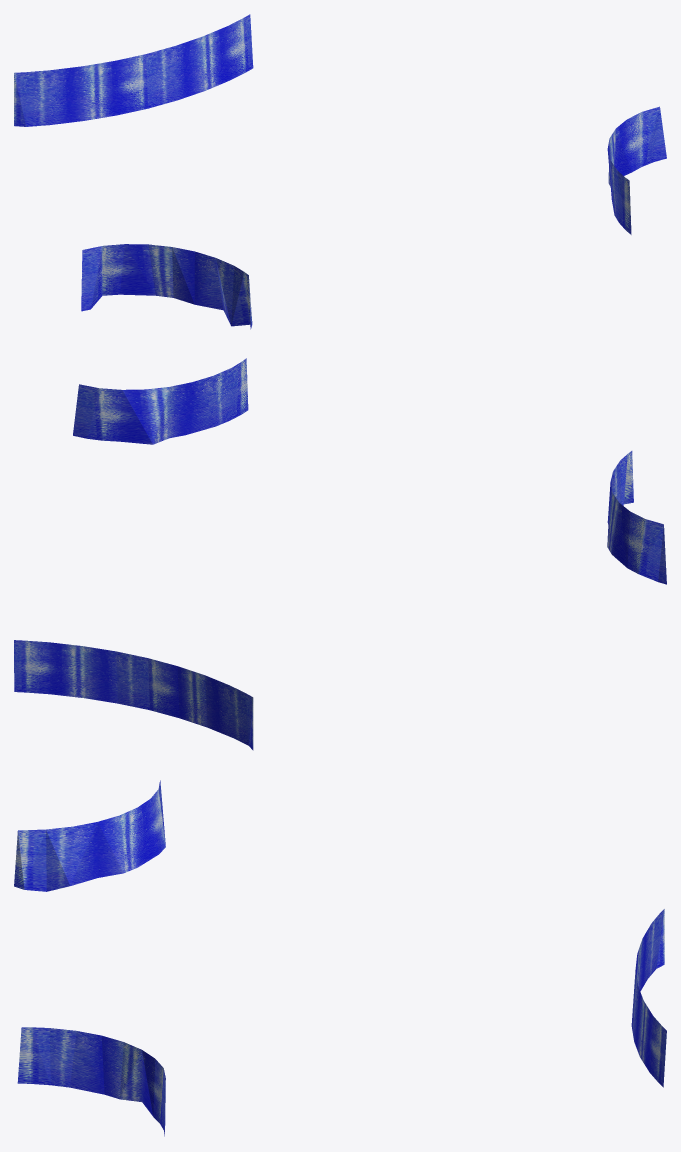
3 renders of one model, top to bottom at view 1: azimuth 30°, elevation 25°; view 2: azimuth 150°, elevation 25°; view 3: azimuth 270°, elevation 25°, orthographic. The views are drawn at different scales.
Bounding box in the file's own units: 0.7943 × 0.1193 × 0.7222.
1 material, 1 textured.
